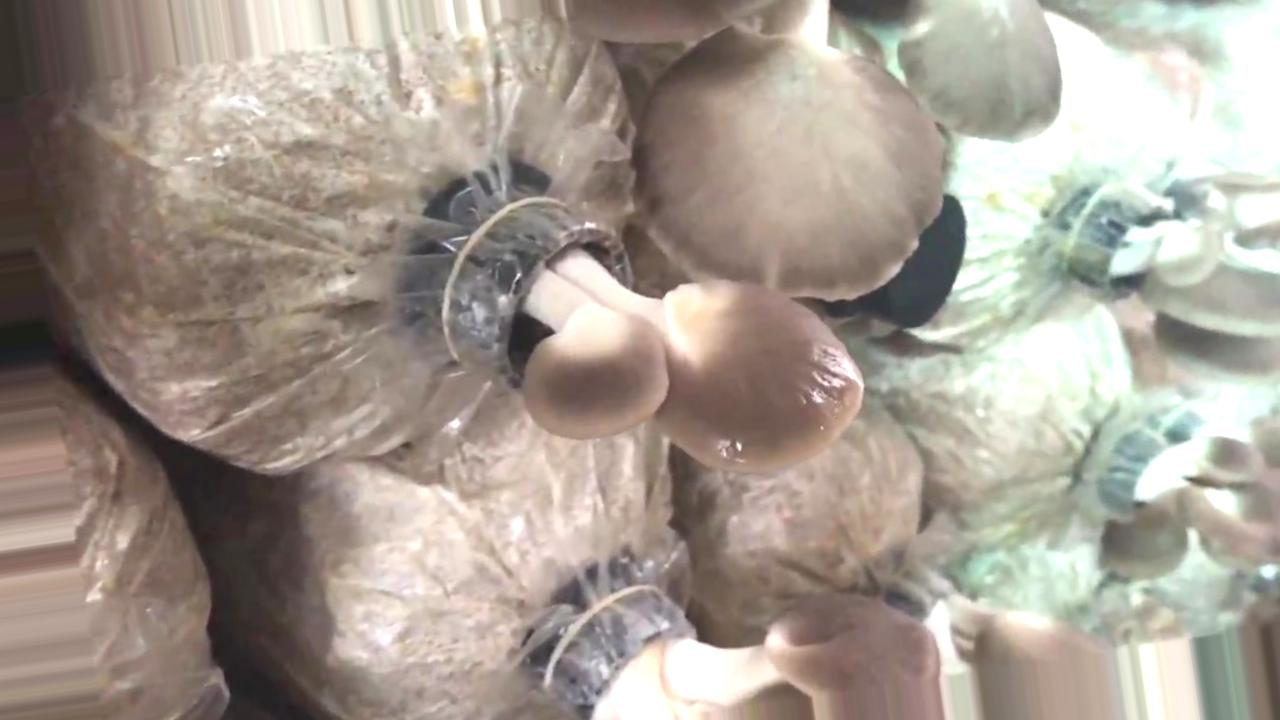nam: (571, 1, 1064, 307), (428, 195, 867, 489), (538, 564, 939, 720), (821, 534, 1107, 720), (1056, 171, 1280, 378), (1096, 428, 1280, 578)
